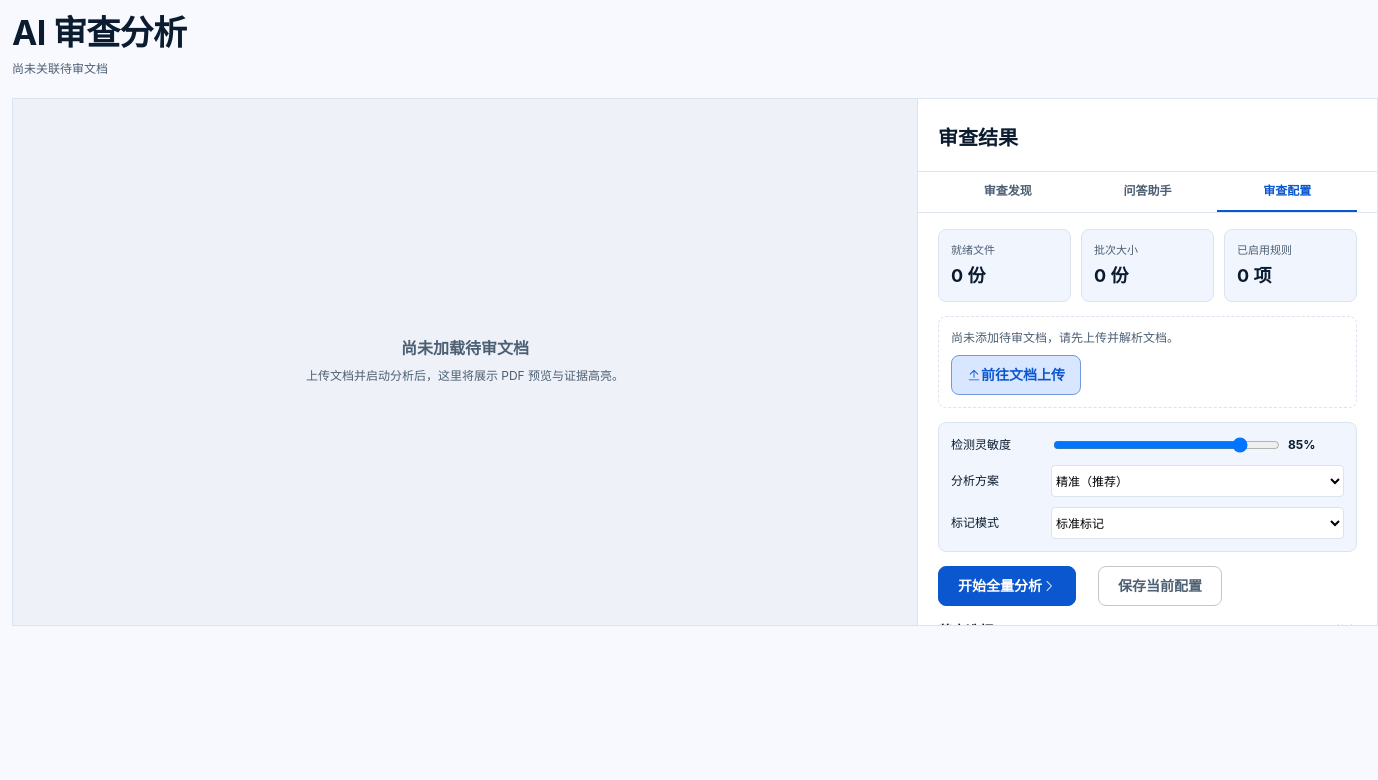
Test: ReviewConsoleView › shows the analysis entry when no job exists: config tab is the default and findings guide to it
expect the element with class "reader-panel" is shown: met, box [13, 98, 917, 624]
expect the element with class "findings-panel" is shown: met, box [917, 98, 1377, 624]
# 审查发现选项卡给出引导
Click the tab with test id "findings-tab": x=1008, y=192 [938, 172, 1078, 212]
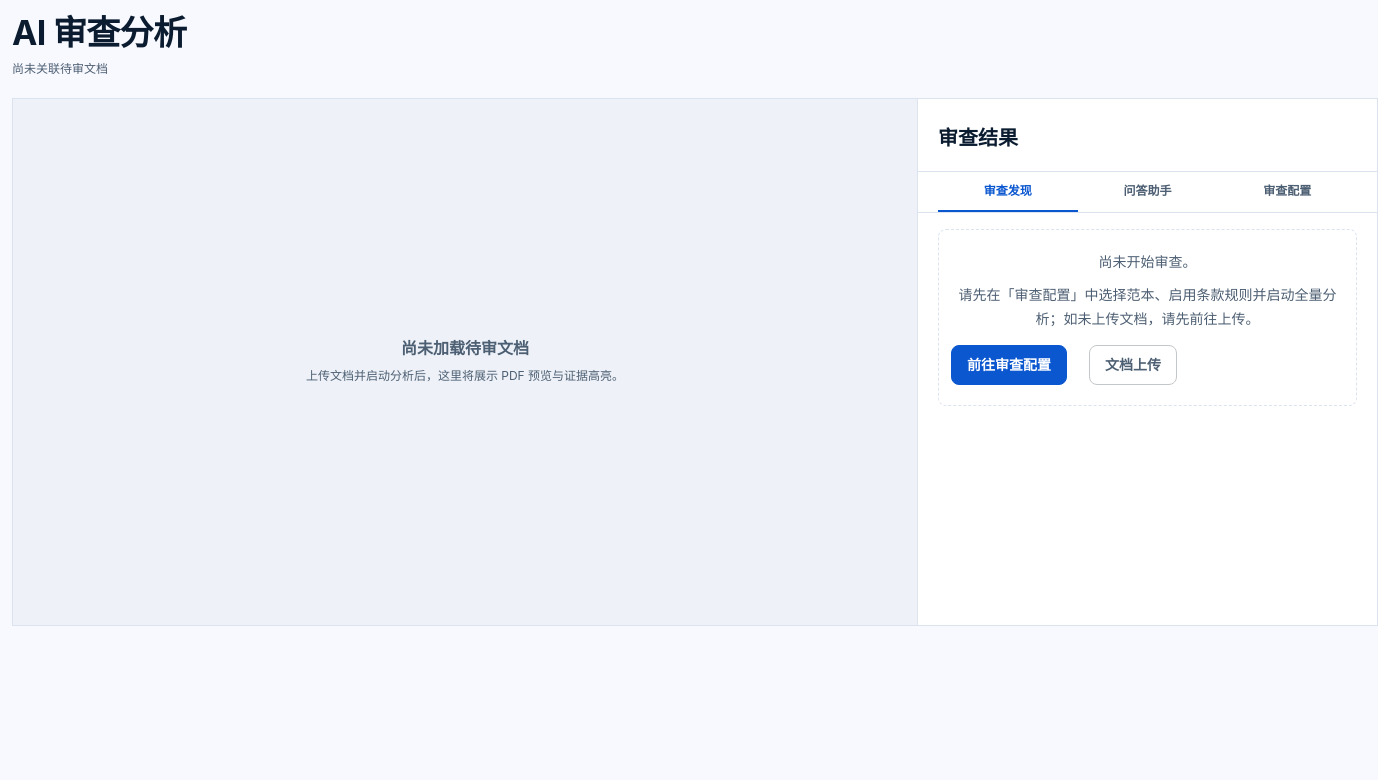
expect the element with class "findings-empty--guide" is shown: met, box [938, 228, 1357, 406]
expect the element with class "findings-empty--guide" shows "尚未开始审查": met, box [1098, 252, 1196, 270]
